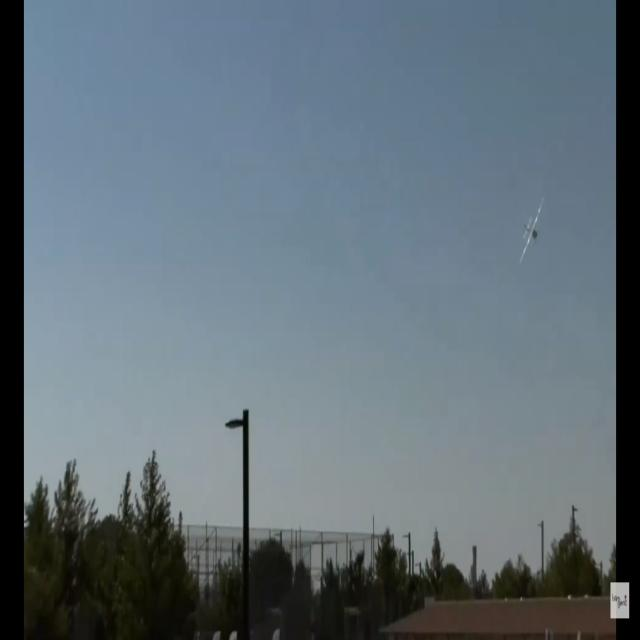iha: (517, 232, 545, 235)
